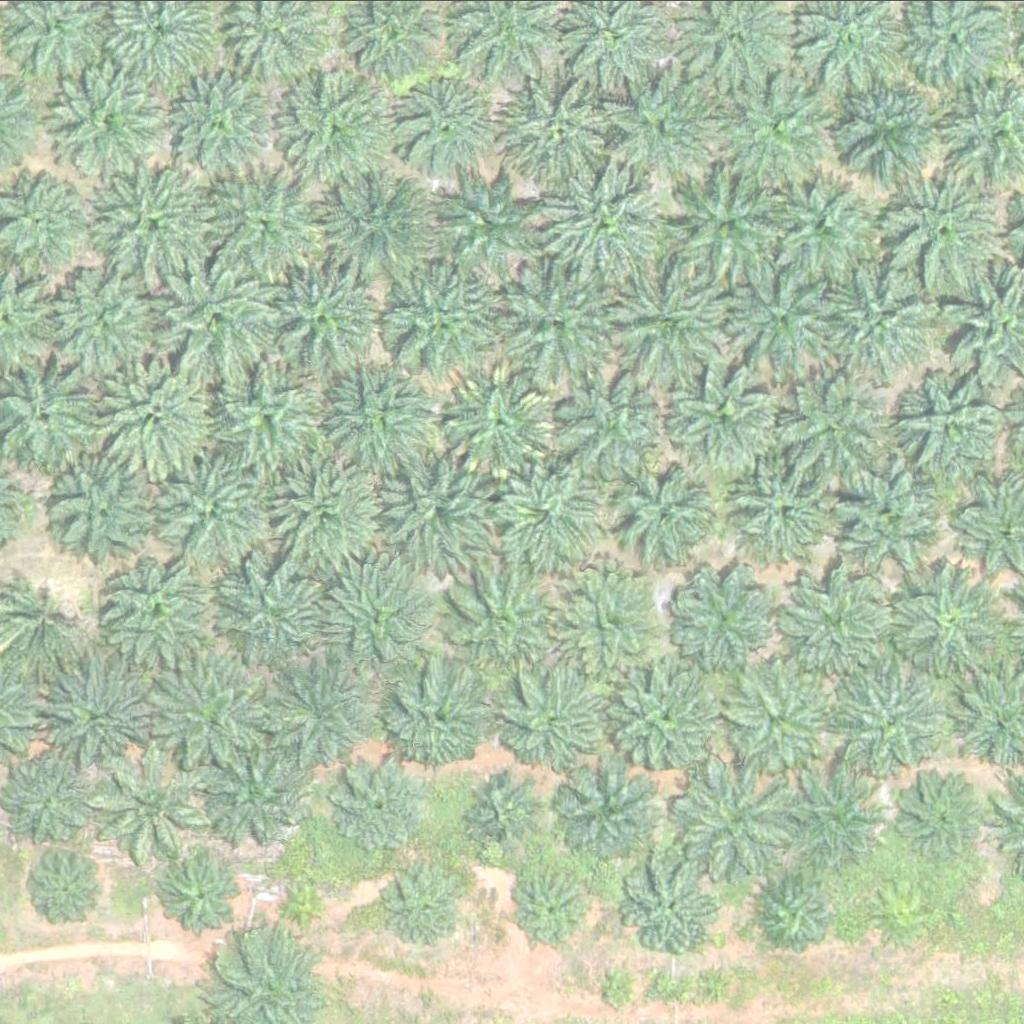Kelapa_Sawit: (39, 651, 165, 776), (100, 543, 226, 668), (45, 446, 171, 571), (100, 337, 226, 462), (47, 53, 173, 178), (158, 58, 284, 183), (495, 70, 621, 195), (606, 62, 732, 187), (541, 166, 667, 291), (311, 162, 437, 287), (204, 166, 330, 291), (96, 159, 222, 284), (154, 254, 280, 379), (257, 258, 383, 383), (376, 258, 502, 383), (496, 260, 622, 385), (611, 270, 737, 395), (146, 649, 272, 774), (670, 760, 796, 885), (719, 254, 845, 379), (813, 256, 939, 381), (658, 164, 784, 289), (757, 160, 883, 285), (878, 164, 1004, 289), (713, 72, 839, 197), (212, 358, 326, 471), (320, 358, 434, 471), (93, 749, 206, 862), (49, 258, 162, 371), (446, 563, 559, 676), (552, 569, 665, 682), (613, 657, 726, 770), (497, 667, 610, 780), (381, 657, 494, 770), (263, 652, 376, 765), (663, 559, 776, 672), (733, 451, 846, 564), (778, 564, 891, 677), (891, 564, 1004, 677), (829, 466, 942, 579), (833, 69, 946, 182), (272, 456, 386, 568), (161, 452, 275, 564), (780, 373, 894, 485), (285, 71, 398, 183), (442, 365, 555, 477), (558, 366, 671, 478), (611, 459, 724, 571), (487, 459, 600, 571), (385, 452, 498, 564), (219, 560, 332, 672), (320, 561, 433, 673), (202, 733, 315, 845), (667, 358, 780, 470), (729, 660, 842, 772), (780, 759, 893, 871), (836, 664, 949, 776), (893, 371, 1006, 483), (5, 749, 106, 849), (394, 75, 495, 175), (331, 752, 432, 852), (562, 760, 663, 860), (435, 173, 535, 273), (625, 856, 725, 956), (383, 859, 471, 947), (511, 861, 599, 949), (159, 849, 247, 937), (894, 772, 982, 859), (759, 875, 835, 950), (35, 849, 110, 924), (466, 773, 541, 848), (282, 876, 320, 914), (602, 969, 640, 1006)
